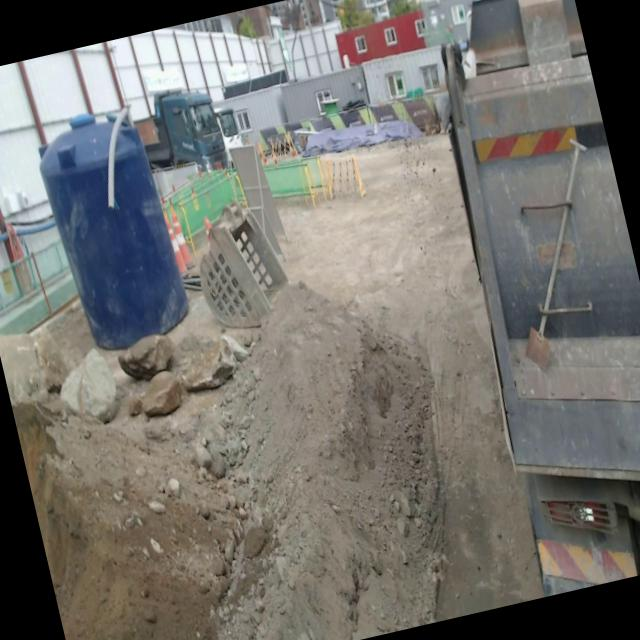stone: (0, 325, 67, 402), (59, 348, 116, 421), (181, 333, 248, 391), (118, 334, 173, 379), (140, 370, 182, 416)
white-sand: (281, 135, 543, 622), (221, 286, 441, 640), (11, 401, 247, 640)
